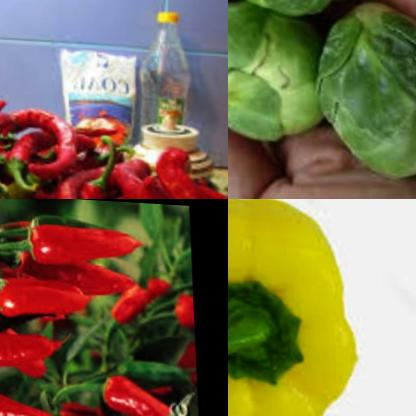bell pepper: (228, 199, 366, 416)
brus capusta: (304, 0, 416, 189), (228, 2, 305, 146)
hot pepper: (0, 82, 228, 199), (19, 209, 144, 271), (14, 249, 137, 303), (0, 262, 100, 326), (96, 365, 183, 416), (104, 269, 169, 320), (0, 313, 59, 369), (0, 371, 72, 416), (170, 330, 195, 381), (168, 287, 193, 328)
